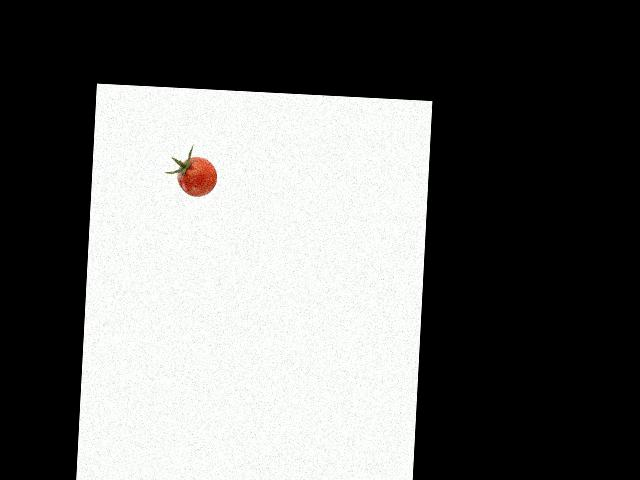tomato: (176, 156, 218, 198)
